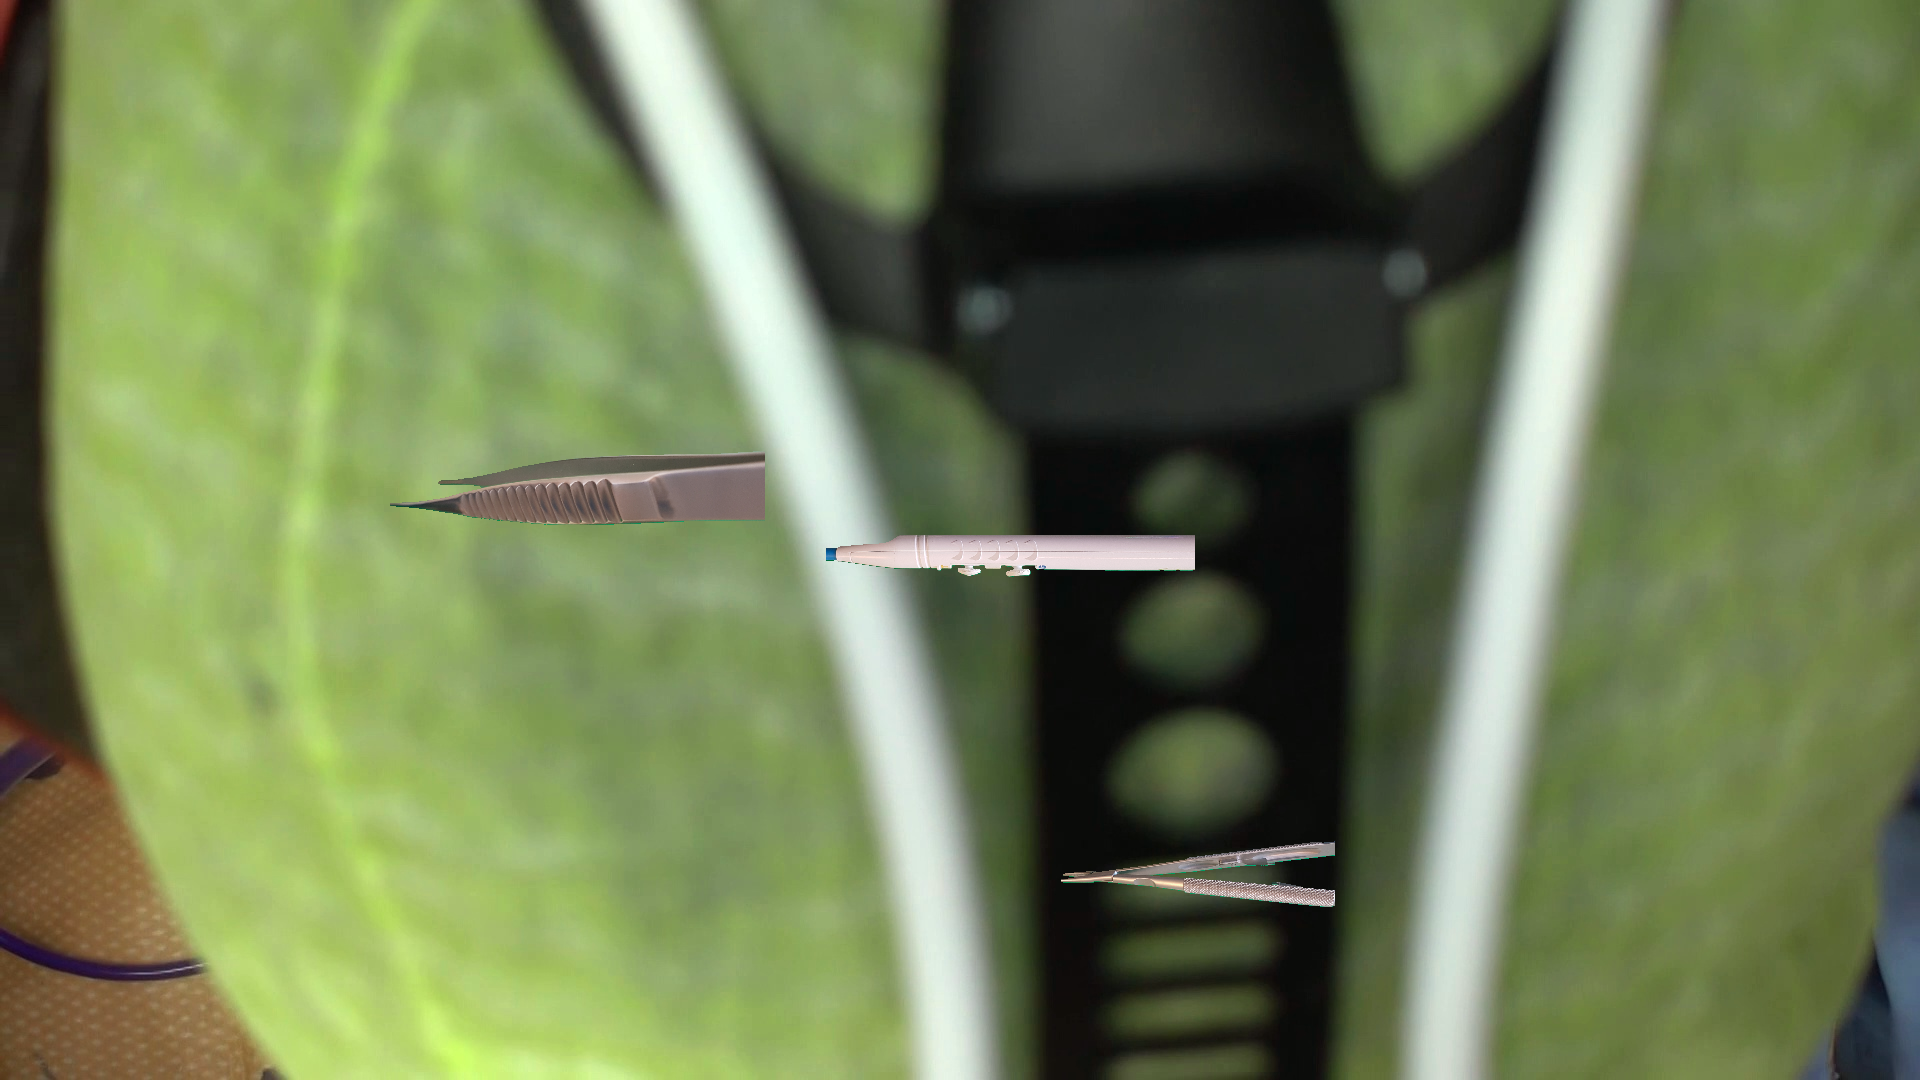diathermy: (825, 535, 1193, 576)
forceps: (390, 451, 764, 524)
